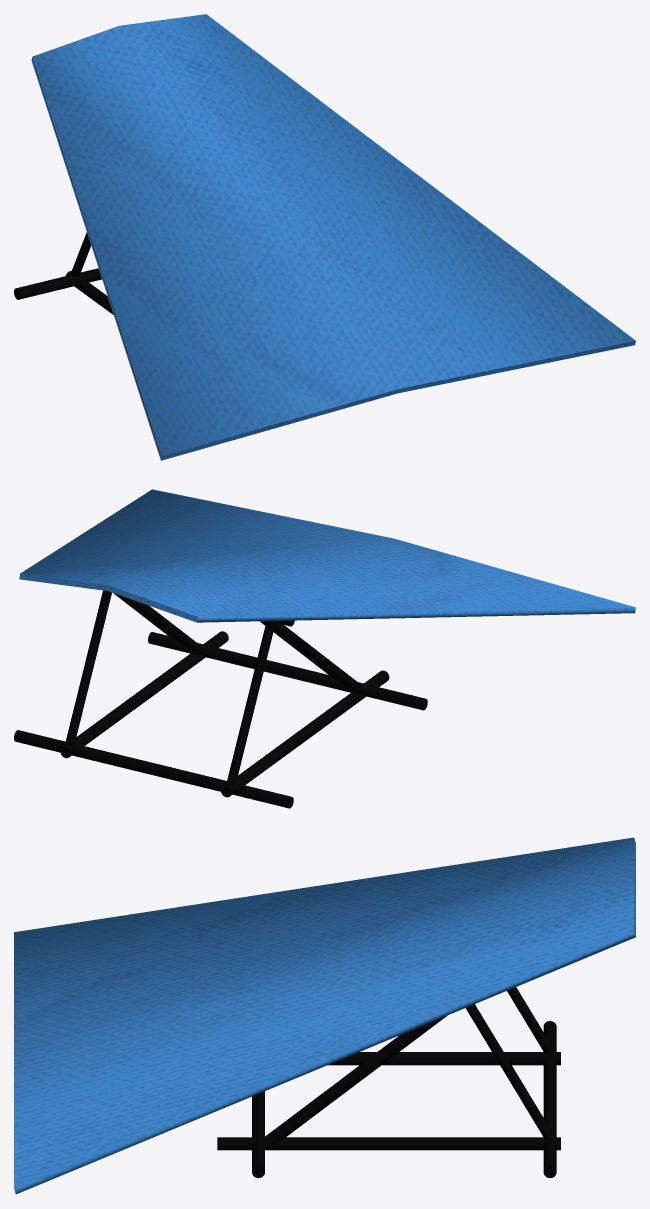
Rendered from Parashoot.fbx.
3 renders of one model, top to bottom at view 1: azimuth 30°, elevation 25°; view 2: azimuth 150°, elevation 25°; view 3: azimuth 270°, elevation 25°, orthographic. The views are drawn at different scales.
Parts seen in each view (by area): view 1: Box003; view 2: Box003; view 3: Box003.
Boxes of the visible parts, x1,y1,x2,y2 form: Box003: (14, 14, 635, 460); Box003: (14, 489, 635, 808); Box003: (14, 837, 635, 1194).
Size of the model in its own units: 6.34 by 2.71 by 6.49.
1 material, 1 textured.
